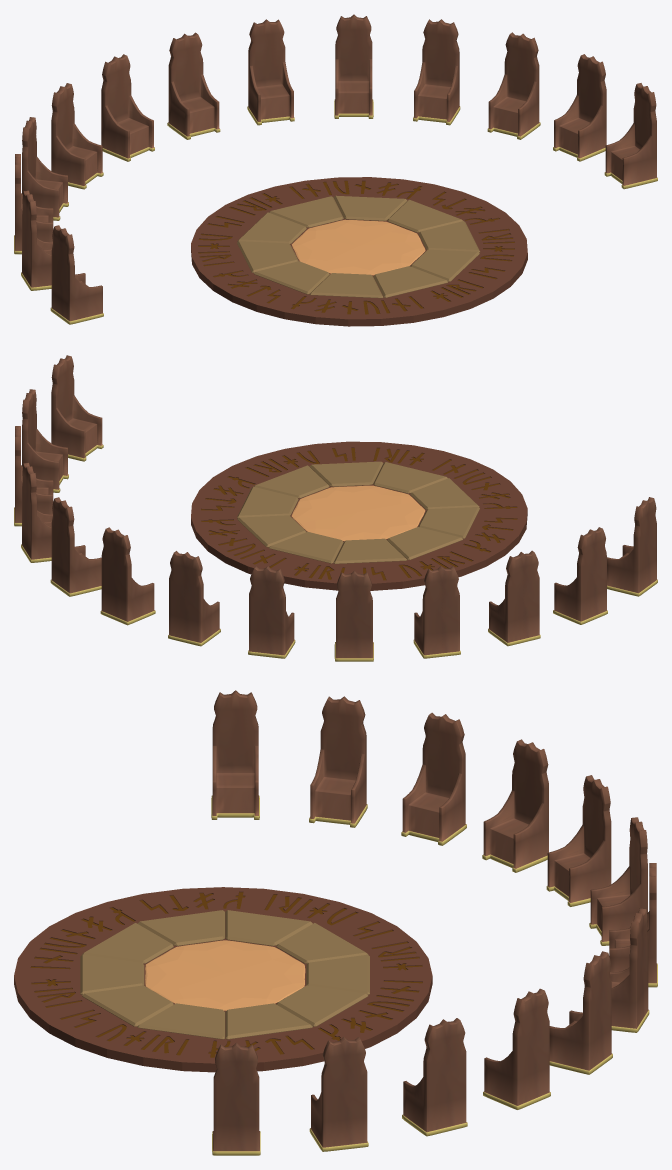
File: GladsheimChairs.glb
The picture shows the model from 3 angles, top to bottom: view 1: azimuth 30°, elevation 25°; view 2: azimuth 150°, elevation 25°; view 3: azimuth 270°, elevation 25°; orthographic projection. The views are drawn at different scales.
Parts seen in each view (by area): view 1: Cube, Cylinder.001, Cube.001, Cylinder; view 2: Cube, Cylinder.001, Cube.001, Cylinder; view 3: Cube, Cylinder.001, Cube.001, Cylinder.
Boxes of the visible parts, x1,y1,x2,y2 form: Cube: (14, 14, 657, 324); Cylinder.001: (191, 177, 527, 326); Cube.001: (237, 195, 479, 298); Cylinder: (291, 219, 425, 275); Cube: (14, 355, 657, 661); Cylinder.001: (191, 441, 527, 590); Cube.001: (237, 461, 479, 563); Cylinder: (291, 485, 425, 541); Cube: (211, 690, 657, 1155); Cylinder.001: (14, 887, 432, 1072); Cube.001: (80, 910, 369, 1039); Cylinder: (145, 940, 305, 1010).
Size of the model in its own units: 8.44 by 1.28 by 6.44.
Materials: 5 (1 with a texture image).
